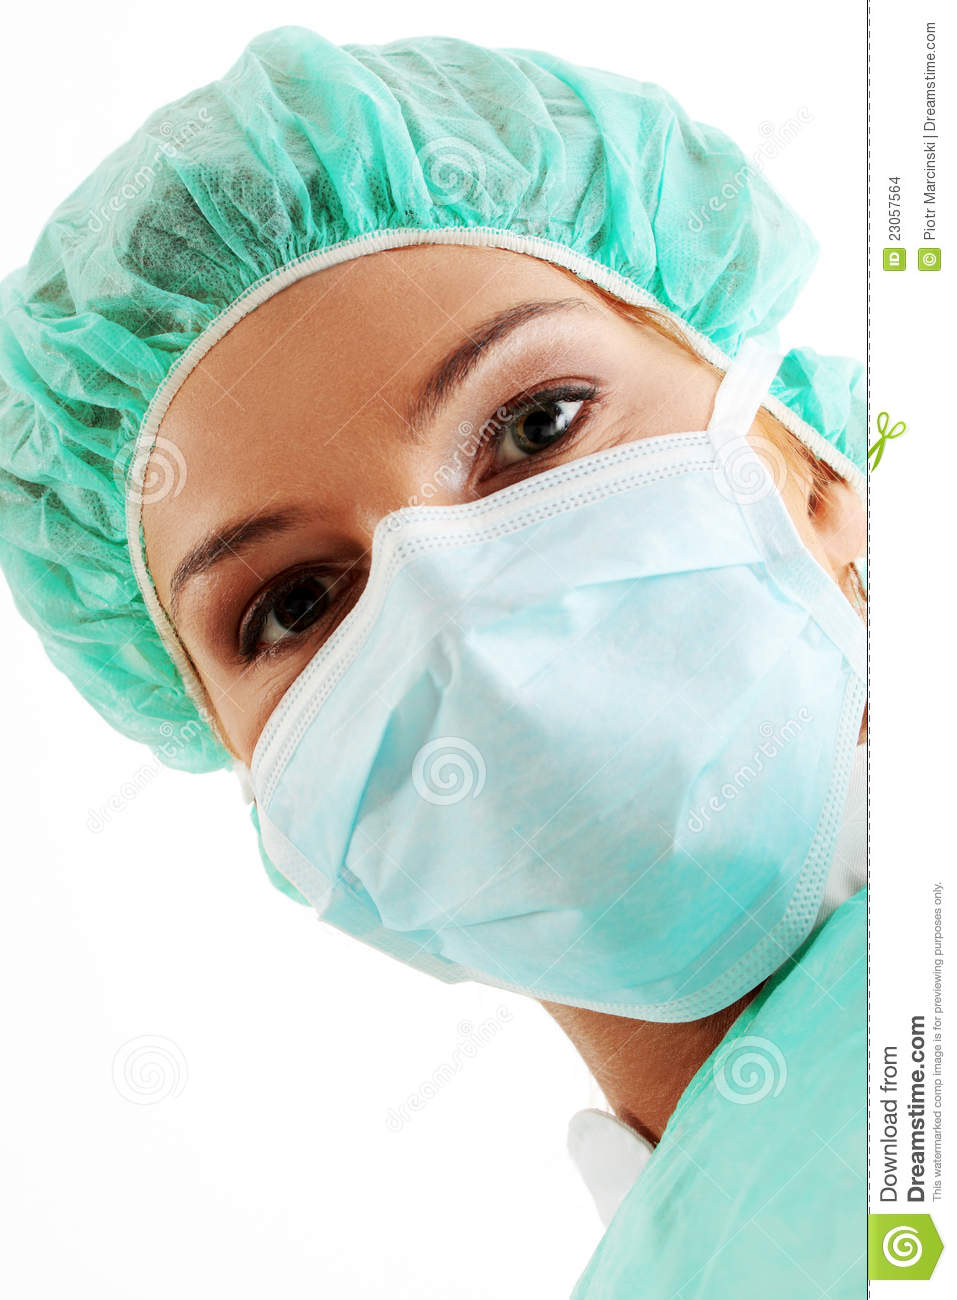mask: (246, 511, 864, 1039)
